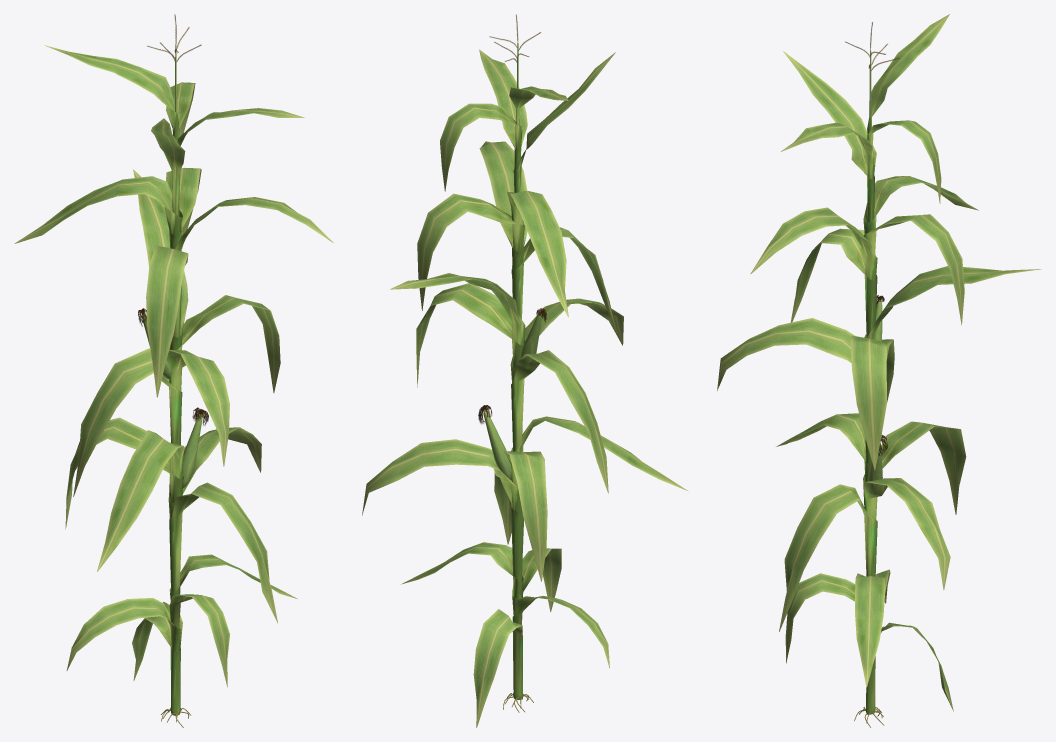
The model's file is PRP_Corn.glb.
3 renders of one model, left to right at view 1: azimuth 30°, elevation 25°; view 2: azimuth 150°, elevation 25°; view 3: azimuth 270°, elevation 25°, orthographic.
Parts seen in each view (by area): view 1: defaultMaterial (×3); view 2: defaultMaterial (×2); view 3: defaultMaterial (×2).
Part boxes in pixels (x1,y1,x2,y2): defaultMaterial (×3): (14, 14, 333, 727); defaultMaterial (×2): (362, 41, 688, 727); defaultMaterial (×2): (717, 14, 1041, 727).
Size of the model in its own units: 0.9752 by 2.65 by 1.11.
3 materials, 3 textured.
